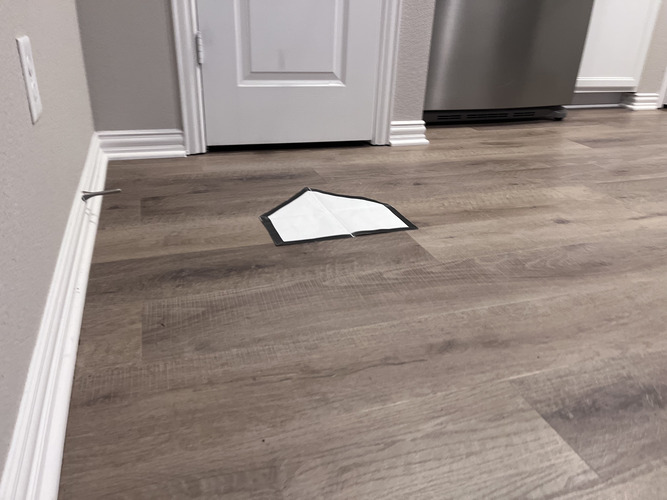homeplate: (260, 187, 416, 247)
